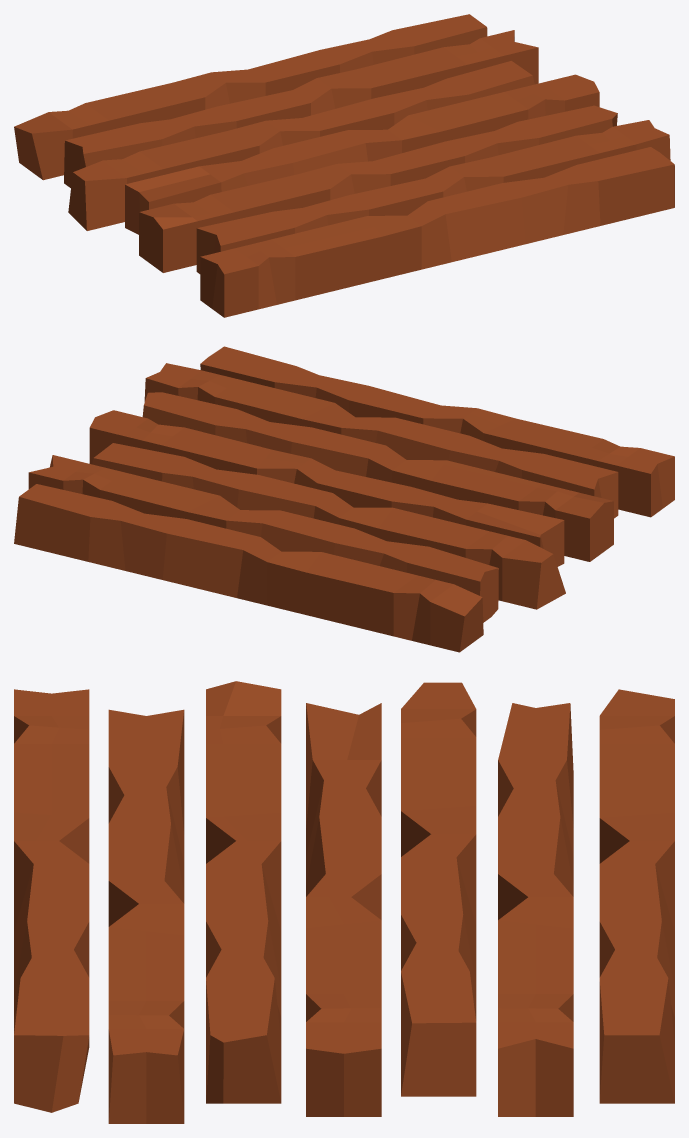
The model's file is Bridge_1.fbx.
3 views of the same model, one above another, from view 1: azimuth 30°, elevation 25°; view 2: azimuth 150°, elevation 25°; view 3: azimuth 270°, elevation 25° (orthographic). The views are drawn at different scales.
Parts seen in each view (by area): view 1: Bridge_1; view 2: Bridge_1; view 3: Bridge_1.
Boxes of the visible parts, bbox=[...] form: Bridge_1: bbox=[14, 14, 674, 317]; Bridge_1: bbox=[14, 346, 674, 652]; Bridge_1: bbox=[14, 681, 674, 1123].
Size of the model in its own units: 7.96 by 0.7854 by 5.9.
